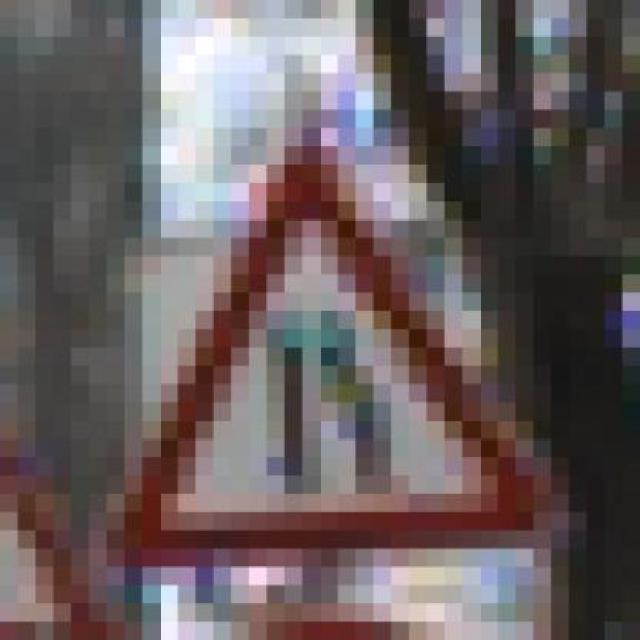-Road narrows on right: (71, 110, 551, 585)
